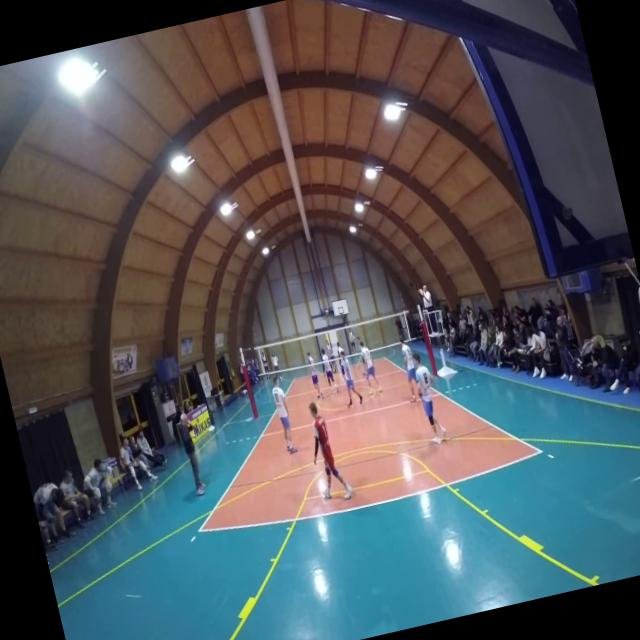serve: (346, 325, 358, 353)
